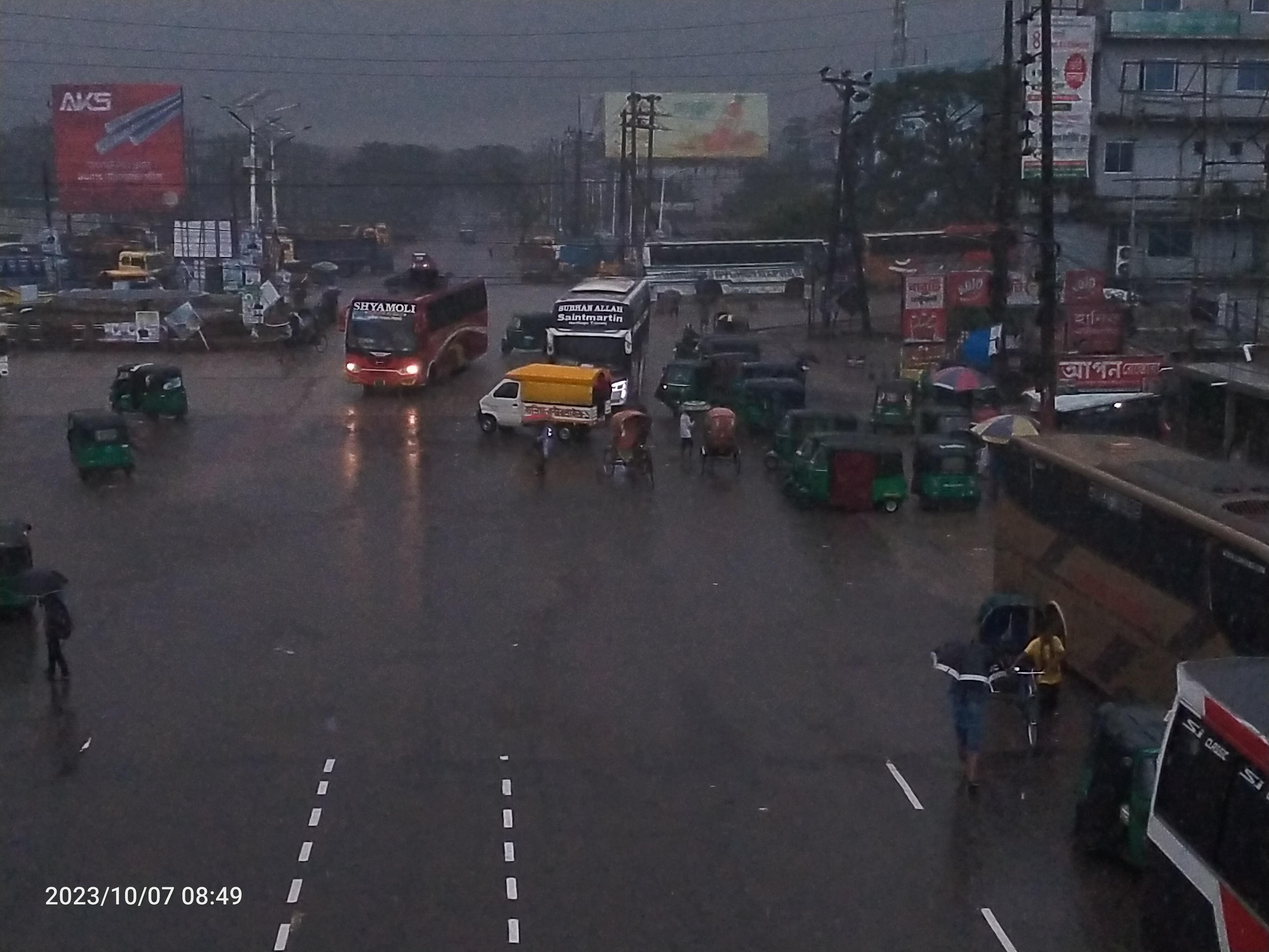Bus: (974, 409, 1269, 702), (1062, 630, 1269, 952), (326, 255, 509, 414), (630, 225, 859, 326), (852, 213, 1049, 307), (533, 260, 663, 396)
Car: (950, 578, 1080, 775), (459, 352, 622, 461), (588, 402, 683, 506), (687, 394, 764, 483)
